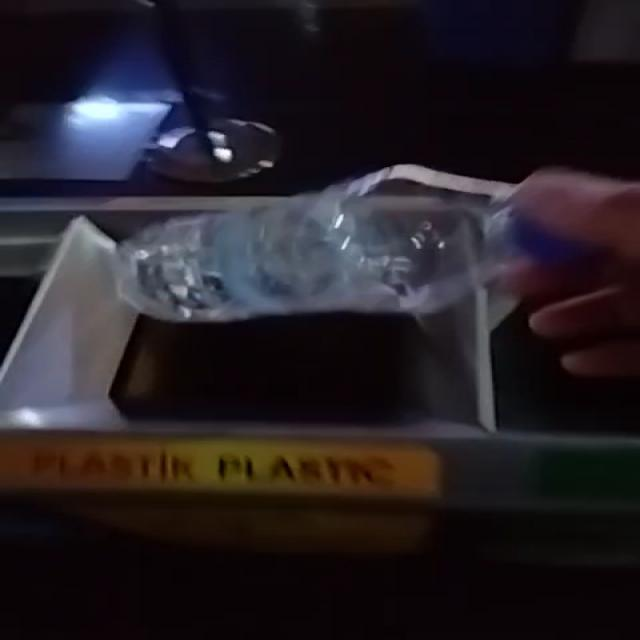plastic: (119, 165, 541, 321)
